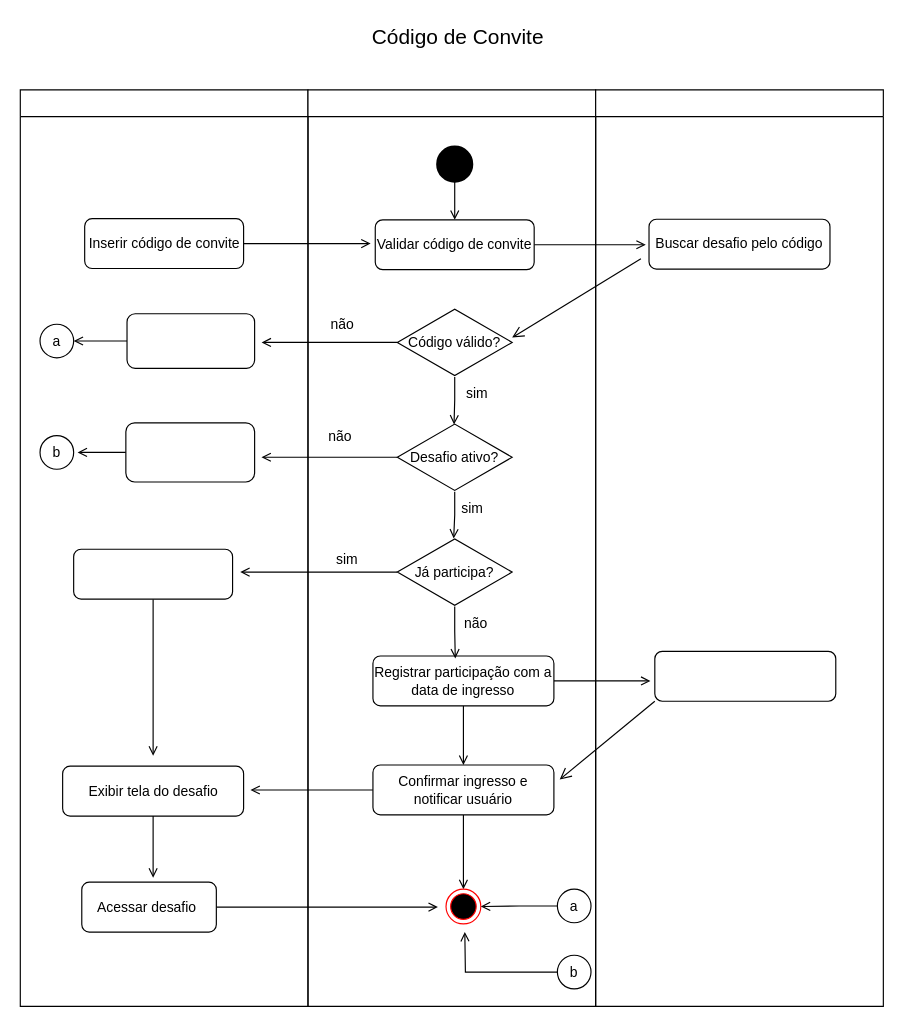
Image size: 904x1027. Some labels were removed from this diagram. The box of each missing label's shape, as (x1, y1, x2, y2) in pixels:
Banco de dados: (594, 89, 883, 1006)
Exibir aviso caso já seja participante: (72, 548, 233, 599)
Exibir aviso de desafio encerrado: (125, 422, 255, 482)
Exibir erro de código inválido: (126, 313, 255, 368)
Salvar participação no banco: (654, 650, 836, 701)
Sistema: (307, 89, 596, 1006)
Usuário: (19, 89, 308, 1006)
